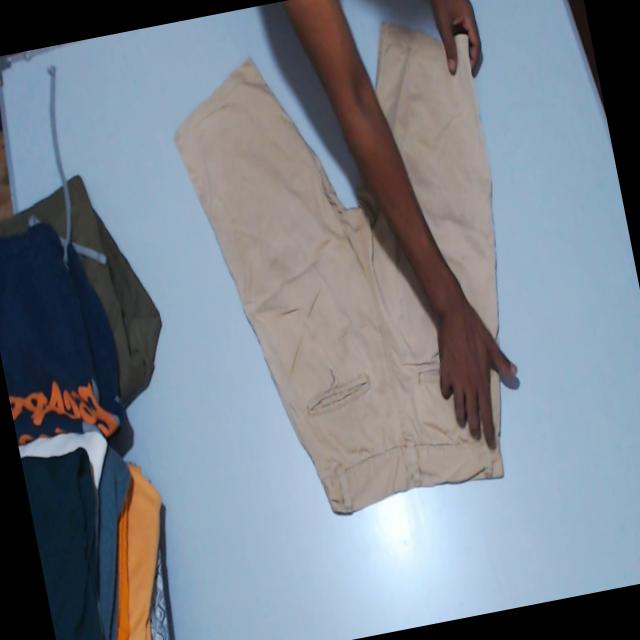new-garment: (176, 60, 502, 513), (376, 24, 498, 335)
